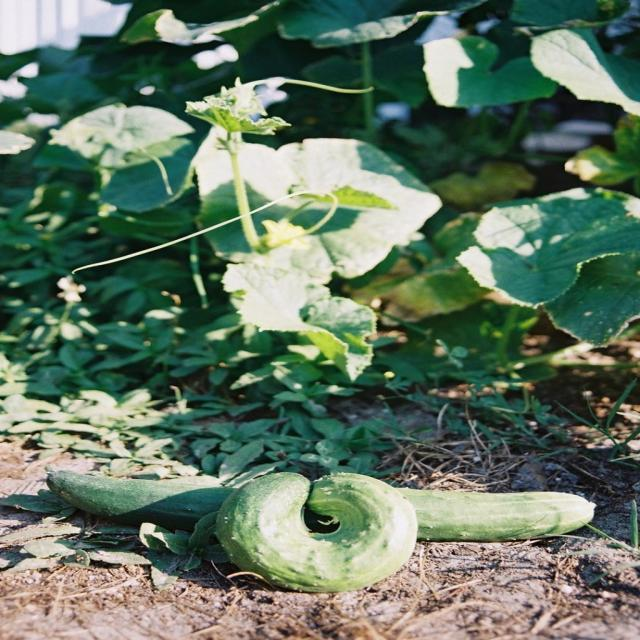Cucumber: (44, 468, 597, 594)
